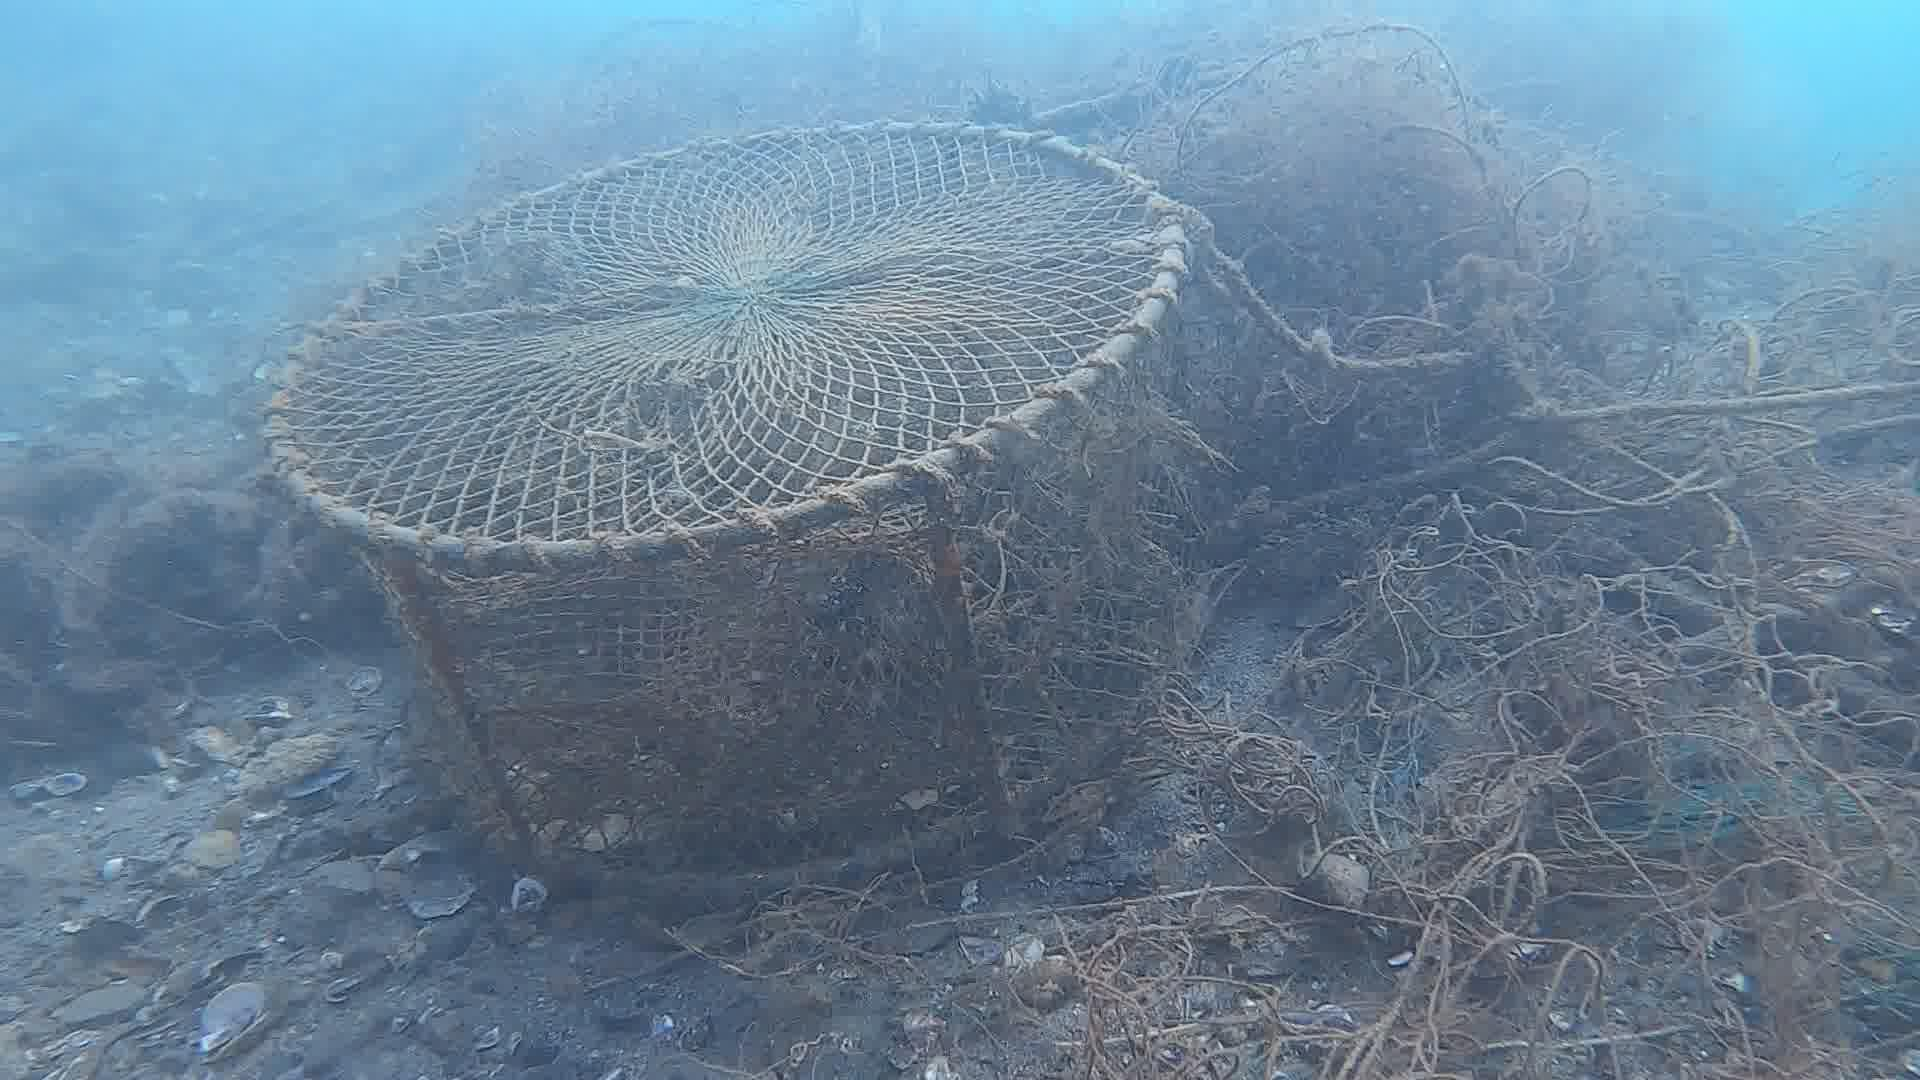circular fish trap: (255, 123, 1263, 907)
